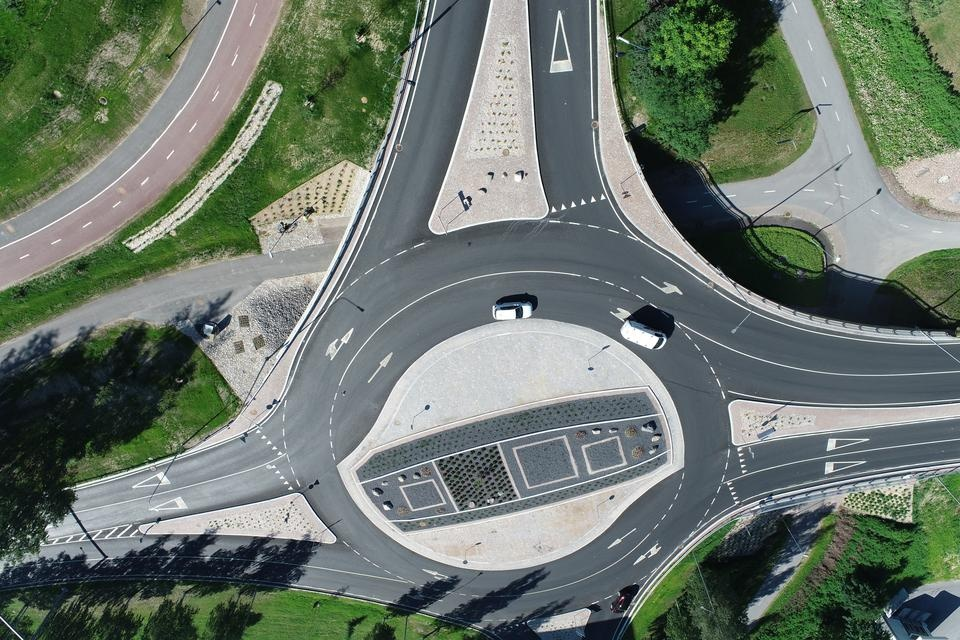roundabout: (241, 136, 774, 640)
